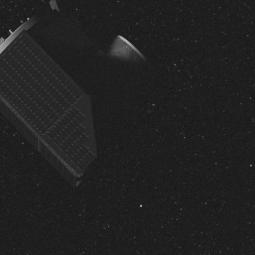cheops: (0, 18, 146, 178)
